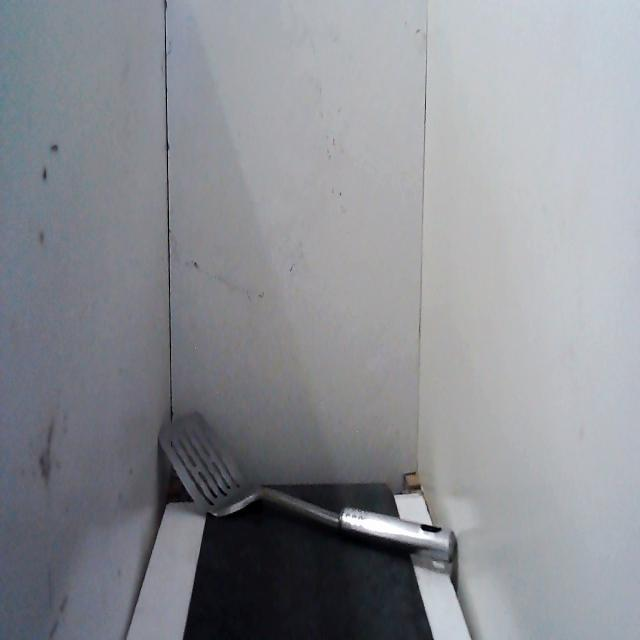metal: (153, 400, 461, 578)
